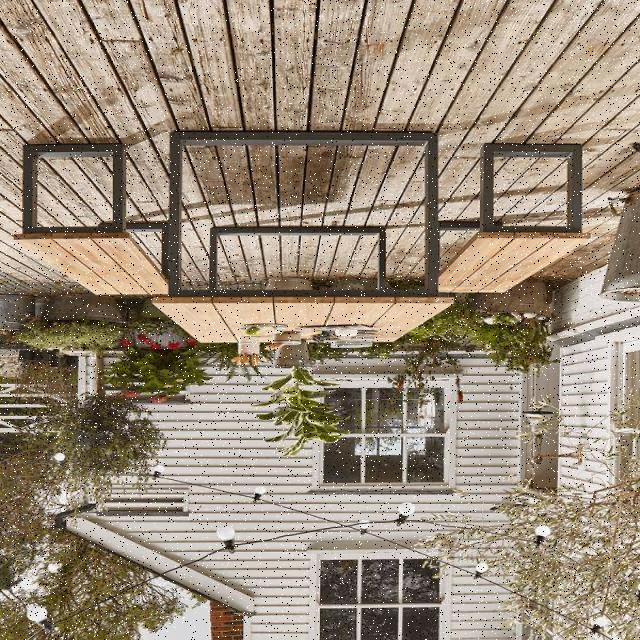mobile-phone: (9, 118, 599, 458)
